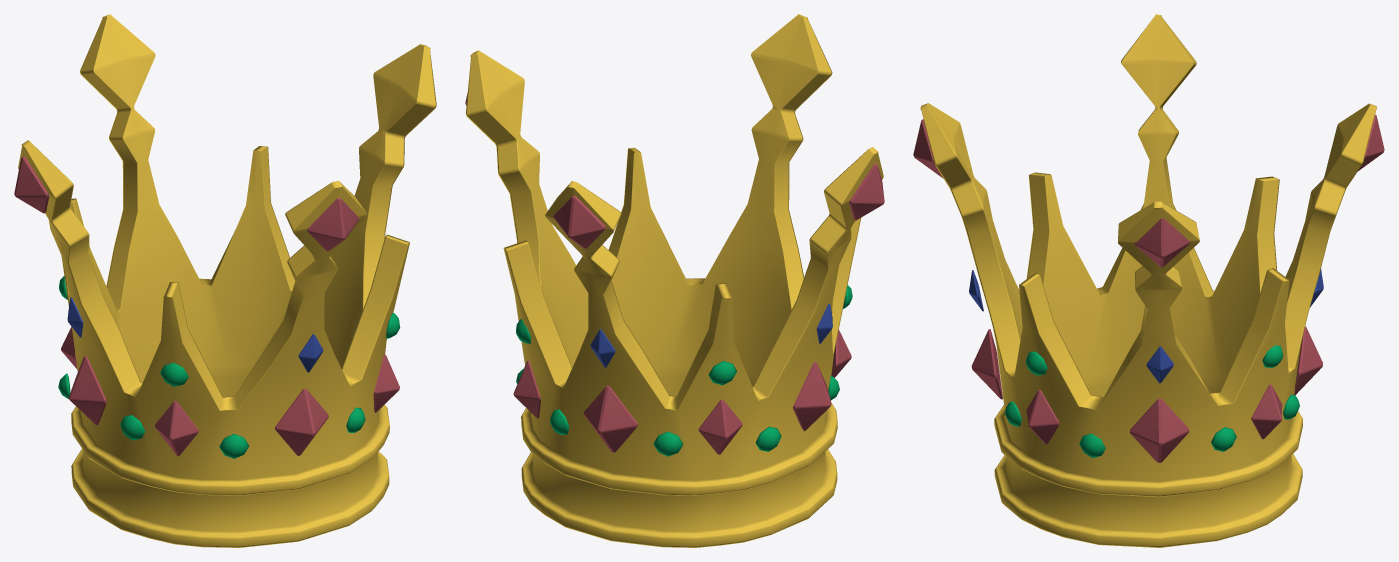
The model's file is Crown.fbx.
3 views of the same model, side by side, from view 1: azimuth 30°, elevation 25°; view 2: azimuth 150°, elevation 25°; view 3: azimuth 270°, elevation 25° (orthographic). The views are drawn at different scales.
Visible parts, largest first — view 1: pCube3, pPlane1, pPlane3, pPlane25, pPlane8, pPlane27, pPlane6, pPlane2, pPlane4; view 2: pCube3, pPlane18, pPlane20, pPlane25, pPlane22, pPlane27, pPlane15, pPlane19, pPlane21, pPlane8; view 3: pCube3, pPlane11, pPlane13, pPlane1, pPlane6, pPlane15, pPlane18, pPlane3, pPlane20, pPlane12.
Part boxes in pixels (x1,y1,x2,y2): pCube3: (18,14,436,547); pPlane1: (275,388,328,455); pPlane3: (307,197,359,251); pPlane25: (69,355,106,425); pPlane8: (155,401,198,456); pPlane27: (14,156,49,213); pPlane6: (373,354,399,412); pPlane2: (298,334,323,372); pPlane4: (219,434,248,458); pCube3: (465,14,883,547); pPlane18: (583,385,637,452); pPlane20: (553,195,605,248); pPlane25: (793,362,831,431); pPlane22: (698,399,742,454); pPlane27: (849,163,884,220); pPlane15: (513,360,541,418); pPlane19: (590,329,615,367); pPlane21: (653,431,683,456); pPlane8: (831,329,851,377); pCube3: (920,14,1377,547); pPlane11: (1130,398,1189,462); pPlane13: (1134,218,1189,267); pPlane1: (971,329,1002,399); pPlane6: (1026,389,1059,444); pPlane15: (1251,384,1282,439); pPlane18: (1294,326,1322,395); pPlane3: (913,119,943,178); pPlane20: (1357,114,1384,171); pPlane12: (1146,346,1173,383).
Size of the model in its own units: 35.78 by 31.71 by 35.97.
